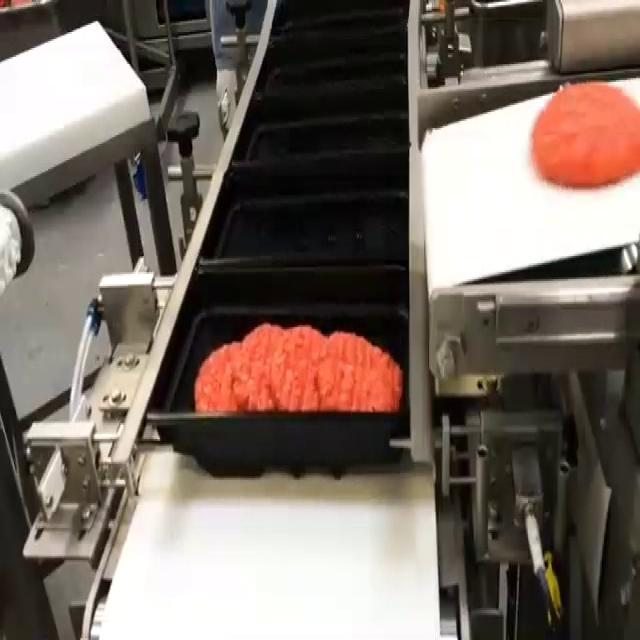4-hamburguer: (193, 324, 402, 411)
